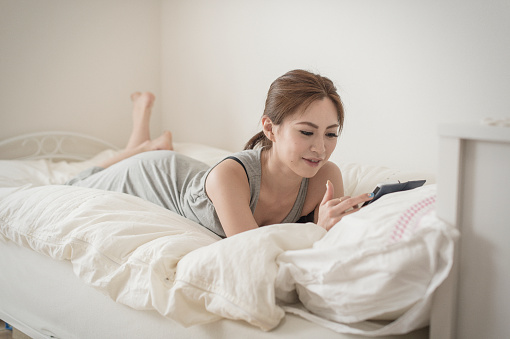deitado: (84, 71, 429, 299)
